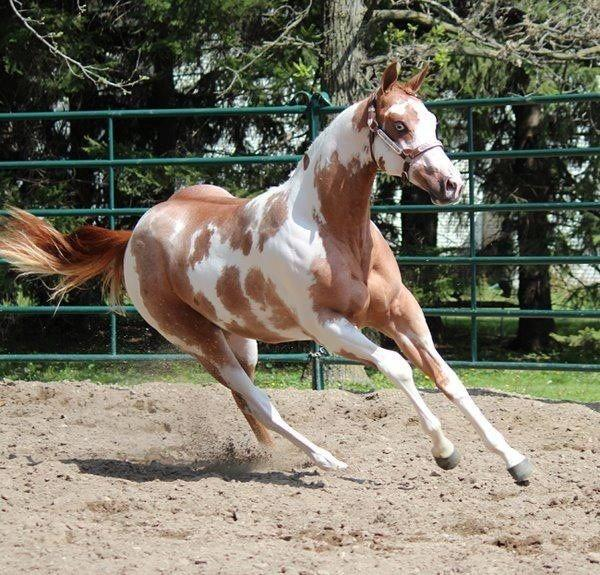horse: (0, 58, 534, 484)
